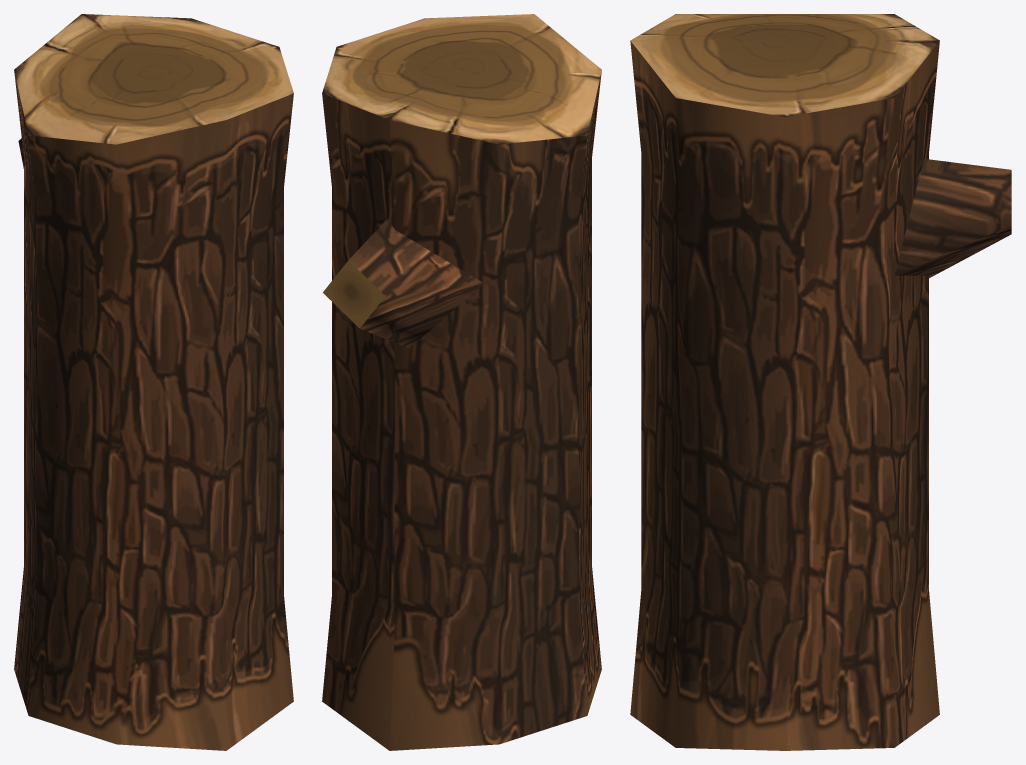
The model's file is resource_log01_B.fbx.
3 renders of one model, left to right at view 1: azimuth 30°, elevation 25°; view 2: azimuth 150°, elevation 25°; view 3: azimuth 270°, elevation 25°, orthographic. The views are drawn at different scales.
Parts seen in each view (by area): view 1: resource_log01_B; view 2: resource_log01_B; view 3: resource_log01_B.
Boxes of the visible parts, <box> form: resource_log01_B: <box>14,14,293,750</box>; resource_log01_B: <box>322,14,601,750</box>; resource_log01_B: <box>630,14,1011,750</box>.
Size of the model in its own units: 43.1 by 104 by 53.08.
